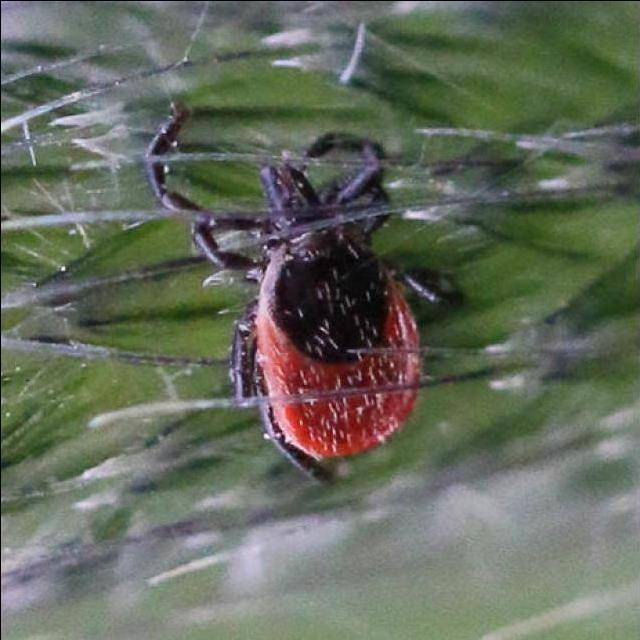Ixodes Ricinus-F: (145, 106, 462, 484)
